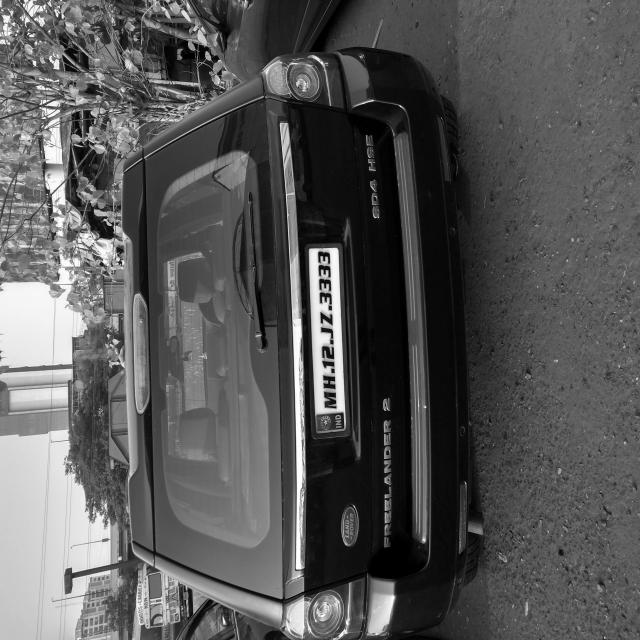car: (0, 143, 454, 640)
license-plate: (156, 412, 298, 466)
